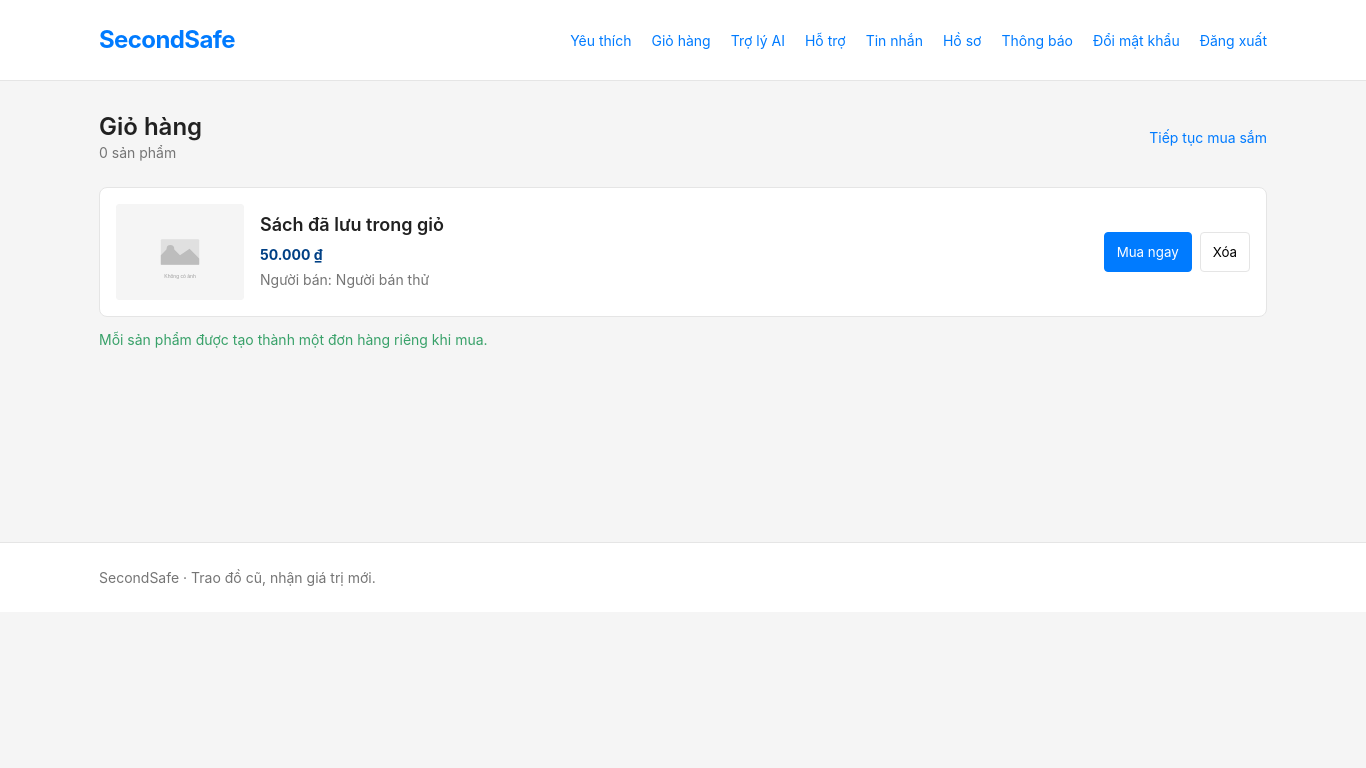
cart page displays saved items and removes them from the account cart
The width and height of the screenshot is (1366, 768).
expect the heading "Sách đã lưu trong giỏ" is shown: met, box [260,214,444,235]
Click the button "Xóa": (1225, 252) [1200,232,1250,272]
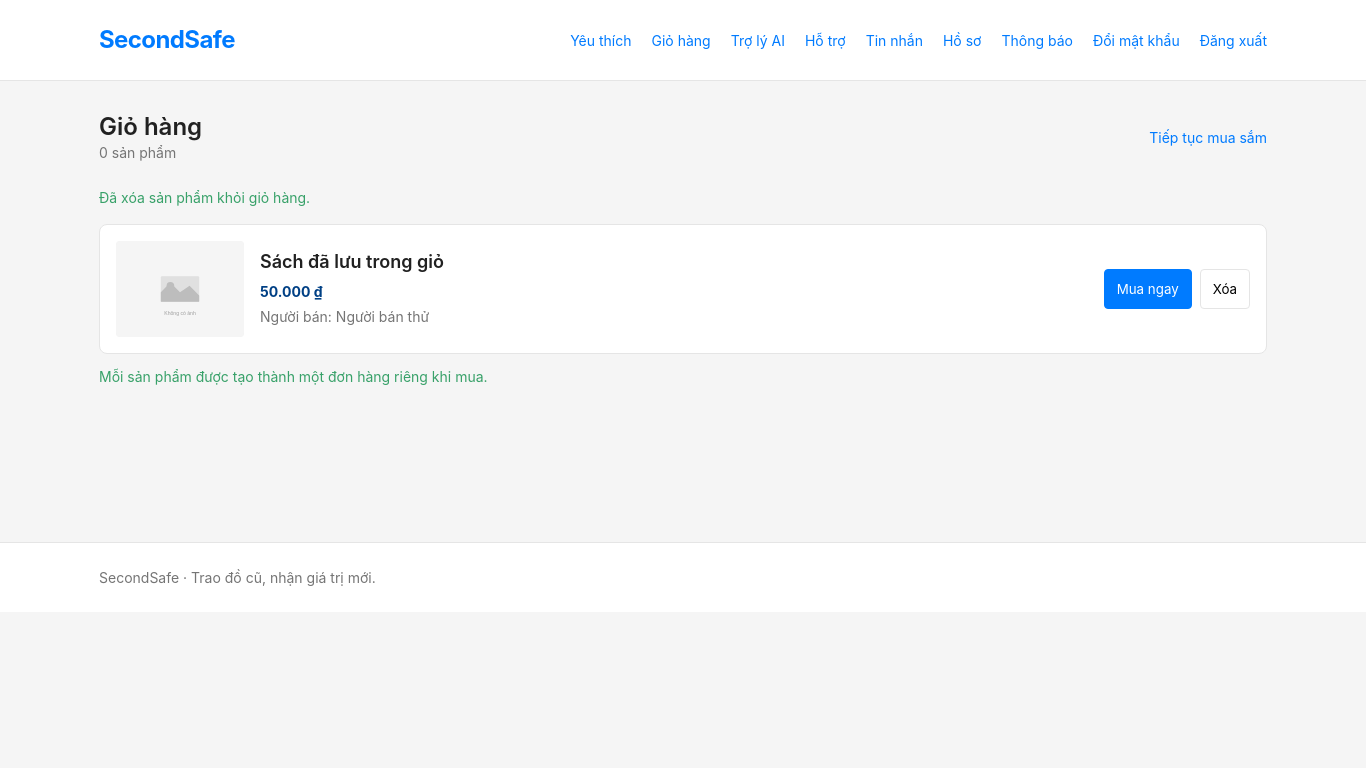
expect the text "Đã xóa sản phẩm khỏi giỏ hàng." is shown: met, box [99,189,310,206]
